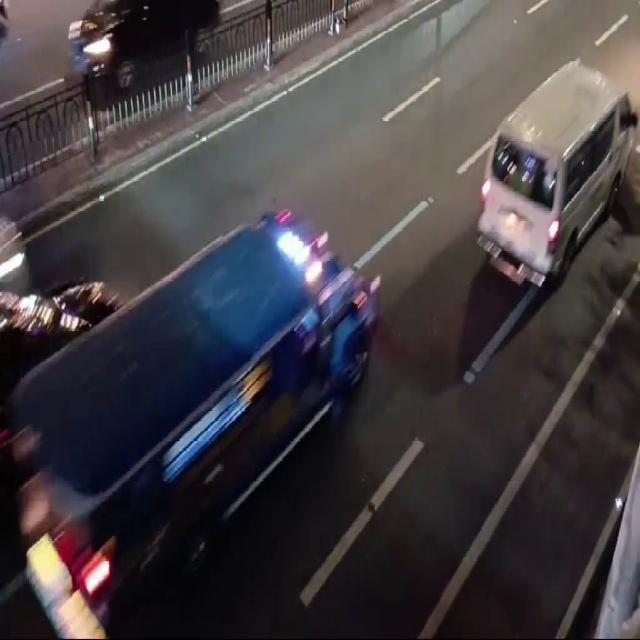car: (468, 59, 636, 315)
jeepney: (16, 199, 391, 626)
